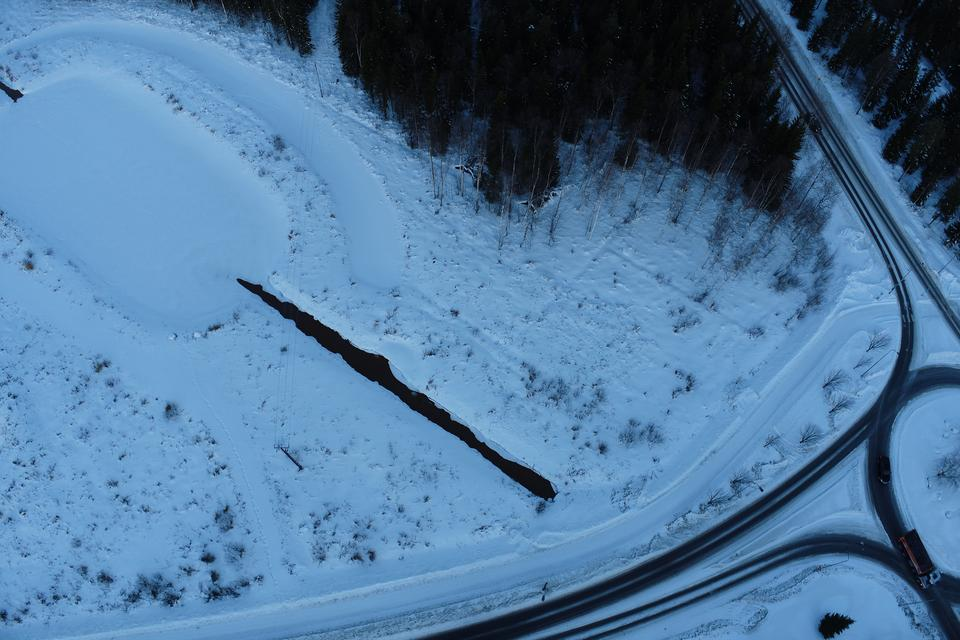intersection: (868, 293, 960, 327)
roundabout: (839, 335, 960, 640)
